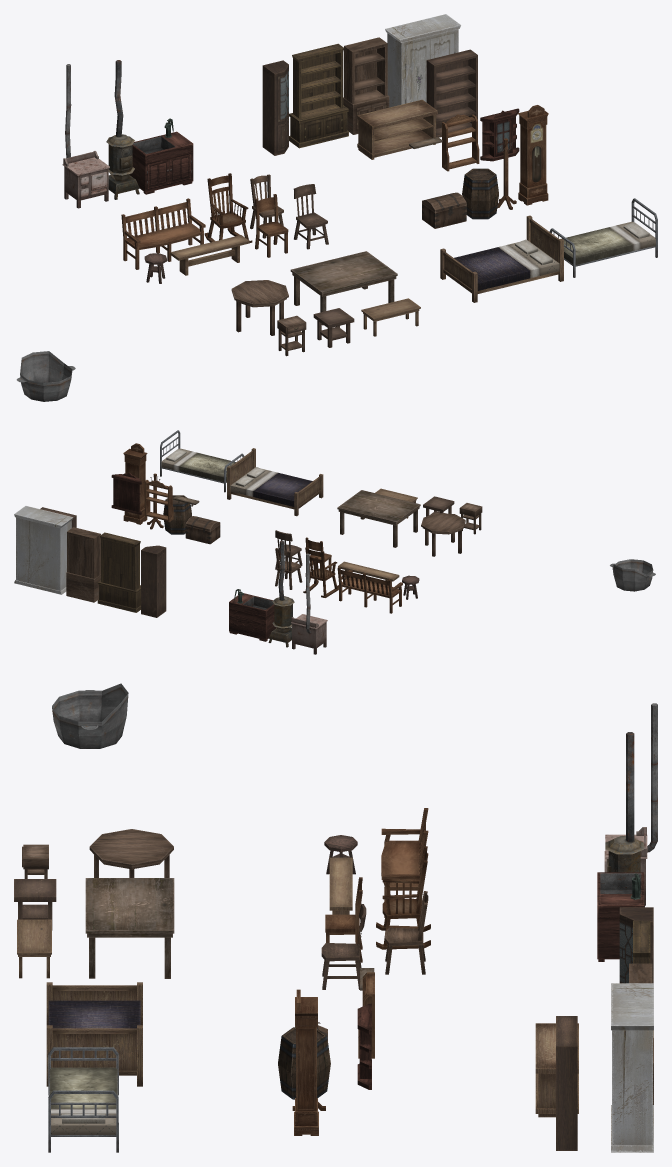
File: Furniture.fbx
3 views of the same model, one above another, from view 1: azimuth 30°, elevation 25°; view 2: azimuth 150°, elevation 25°; view 3: azimuth 270°, elevation 25° (orthographic). The views are drawn at different scales.
Parts seen in each view (by area): view 1: Bed_2, Bookshelf_3, Dresser, Bookshelf_1, Counter, Bookshelf_2, Table_2, Sink, Bed_1, Bench_1, Grandfather.Clock, Stove (+16 smaller); view 2: Dresser, Bed_2, Bookshelf_3, Bookshelf_2, Table_2, Bed_1, Sink, Corner.Shelf, Stove, Bench_1, Oven, Bathtub (+12 smaller); view 3: Bed_2, Dresser, Table_2, Bed_1, Bathtub, Grandfather.Clock, Bookshelf_1, Sink, Table_1, Bench_1, Oven, Counter (+14 smaller).
Boxes of the visible parts, left/top/right/bottom form: Bed_2: left=440, top=215, right=563, bottom=302; Bookshelf_3: left=289, top=43, right=348, bottom=148; Dresser: left=385, top=14, right=460, bottom=107; Bookshelf_1: left=426, top=49, right=477, bottom=137; Counter: left=357, top=99, right=437, bottom=159; Bookshelf_2: left=343, top=37, right=389, bottom=134; Table_2: left=290, top=251, right=397, bottom=325; Sink: left=130, top=118, right=193, bottom=194; Bed_1: left=549, top=198, right=657, bottom=277; Bench_1: left=121, top=198, right=205, bottom=269; Grandfather.Clock: left=518, top=105, right=548, bottom=205; Stove: left=62, top=64, right=109, bottom=208; Dresser: left=14, top=506, right=73, bottom=594; Bed_2: left=227, top=448, right=323, bottom=516; Bookshelf_3: left=97, top=532, right=140, bottom=612; Bookshelf_2: left=66, top=527, right=100, bottom=602; Table_2: left=337, top=490, right=420, bottom=547; Bed_1: left=160, top=430, right=244, bottom=492; Sink: left=229, top=589, right=275, bottom=641; Corner.Shelf: left=141, top=545, right=166, bottom=617; Stove: left=291, top=553, right=327, bottom=654; Bench_1: left=337, top=567, right=402, bottom=613; Oven: left=268, top=540, right=294, bottom=647; Bathtub: left=610, top=559, right=655, bottom=591; Bed_2: left=46, top=982, right=142, bottom=1086; Dresser: left=611, top=983, right=653, bottom=1152; Table_2: left=85, top=878, right=174, bottom=978; Bed_1: left=48, top=1047, right=118, bottom=1152; Bathtub: left=52, top=683, right=128, bottom=748; Grandfather.Clock: left=294, top=989, right=318, bottom=1135; Bookshelf_1: left=556, top=1016, right=577, bottom=1150; Sink: left=597, top=872, right=644, bottom=961; Table_1: left=89, top=829, right=173, bottom=877; Bench_1: left=381, top=808, right=428, bottom=917; Oven: left=605, top=732, right=644, bottom=907; Counter: left=535, top=1023, right=578, bottom=1117.
Bounding box in the file's own units: 1518 × 300 × 946.
